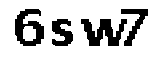6: (11, 5, 47, 52)
7: (124, 6, 152, 49)
s: (48, 18, 77, 50)
w: (80, 16, 127, 50)
